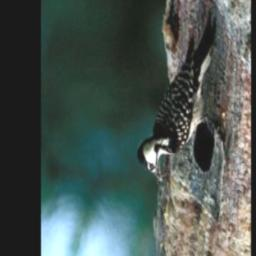Woodpecker: (135, 9, 215, 185)
